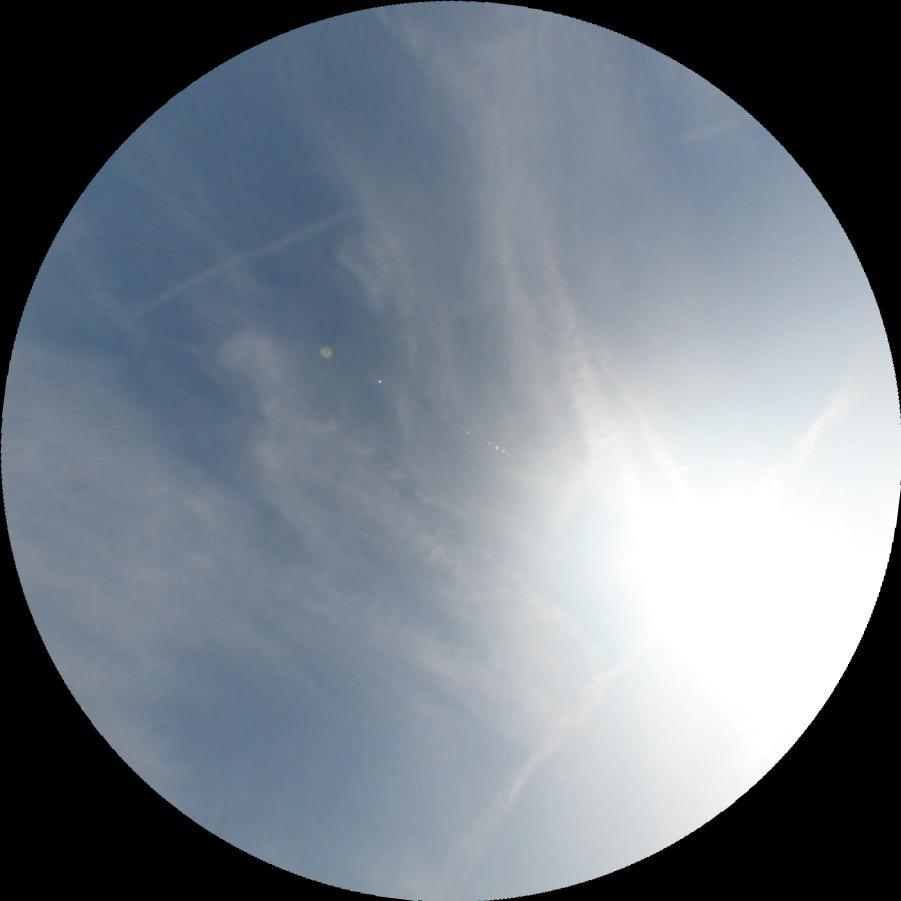contrail veryold: (423, 365, 886, 895), (161, 312, 616, 736), (169, 476, 565, 753), (135, 200, 357, 314), (567, 310, 698, 497)
sun: (631, 471, 897, 746)
